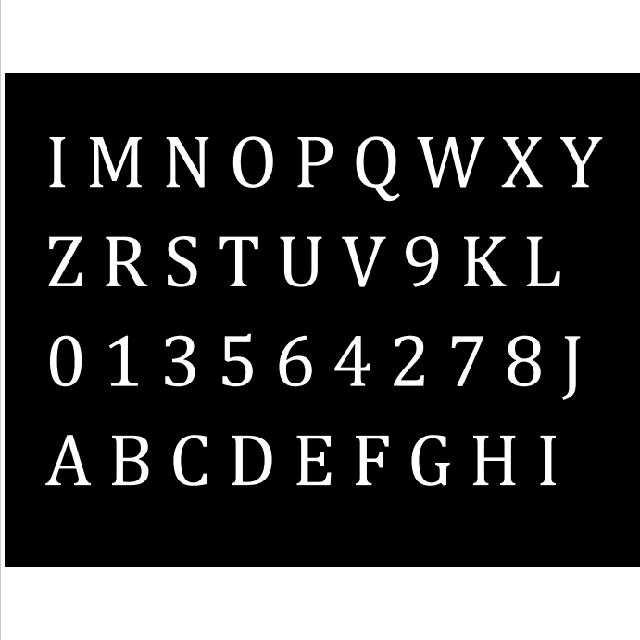0: (231, 131, 274, 192), (49, 332, 85, 390)
1: (105, 329, 143, 394)
2: (388, 332, 428, 388)
3: (160, 332, 195, 390)
4: (333, 333, 373, 389)
5: (217, 329, 252, 390)
6: (277, 331, 314, 391)
8: (508, 333, 544, 391)
D: (229, 433, 269, 492)
E: (296, 433, 336, 491)
F: (351, 430, 392, 488)
G: (409, 429, 452, 495)
H: (463, 430, 514, 495)
I: (43, 126, 79, 197), (531, 429, 568, 494)
M: (90, 135, 144, 191)
N: (169, 131, 213, 190)
P: (294, 134, 332, 195)
Q: (354, 134, 401, 209)
R: (105, 235, 147, 292)
T: (220, 234, 264, 290)
U: (279, 233, 320, 292)
V: (345, 234, 390, 292)
W: (414, 130, 484, 190)
X: (498, 130, 544, 193)
Y: (557, 132, 605, 196)
